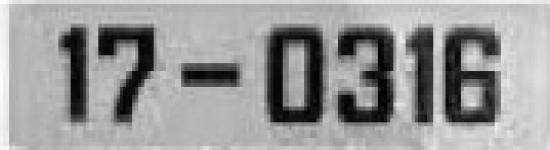-: (171, 58, 250, 103)
0: (260, 15, 330, 134)
1: (399, 12, 440, 138), (52, 15, 94, 136)
3: (332, 15, 401, 134)
6: (441, 13, 511, 137)
7: (94, 15, 162, 136)
